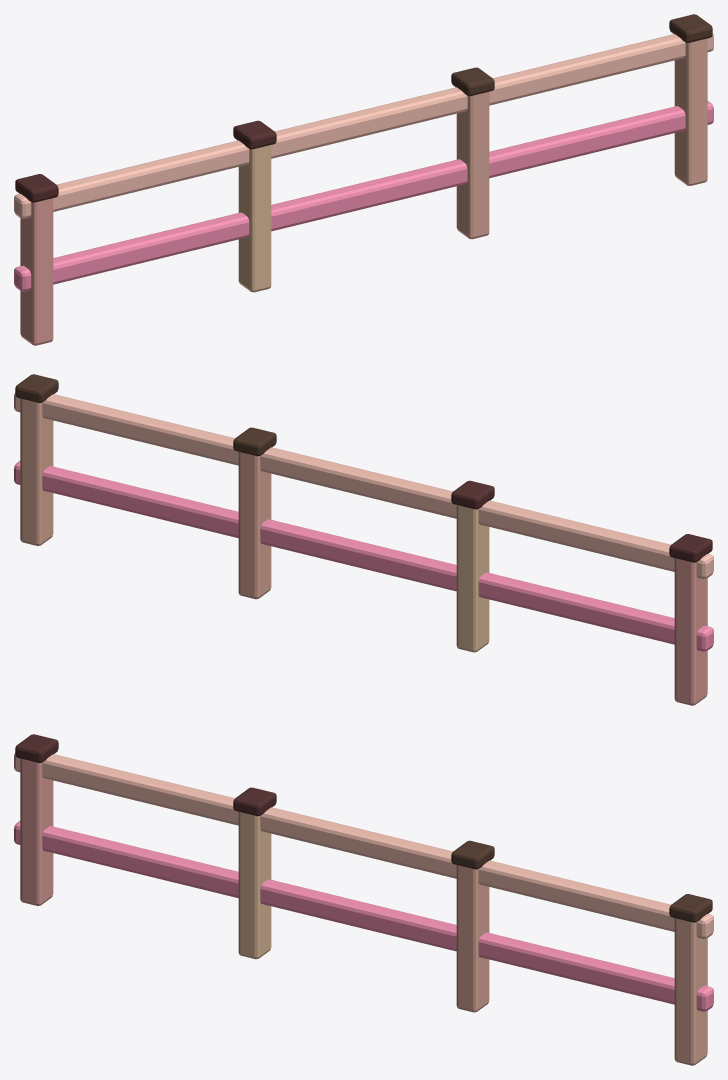
The model's file is WC_RIVER_Bridge_Rail_A.glb.
3 renders of one model, top to bottom at view 1: azimuth 30°, elevation 25°; view 2: azimuth 150°, elevation 25°; view 3: azimuth 330°, elevation 25°, orthographic.
Parts seen in each view (by area): view 1: WC_RIVER_Bridge_Rail_A_RenderMesh; view 2: WC_RIVER_Bridge_Rail_A_RenderMesh; view 3: WC_RIVER_Bridge_Rail_A_RenderMesh.
Part boxes in pixels (x1,y1,x2,y2): WC_RIVER_Bridge_Rail_A_RenderMesh: (14,14,713,345); WC_RIVER_Bridge_Rail_A_RenderMesh: (14,374,713,705); WC_RIVER_Bridge_Rail_A_RenderMesh: (14,734,713,1065).
Bounding box in the file's own units: 3.5 × 0.76 × 0.16.
